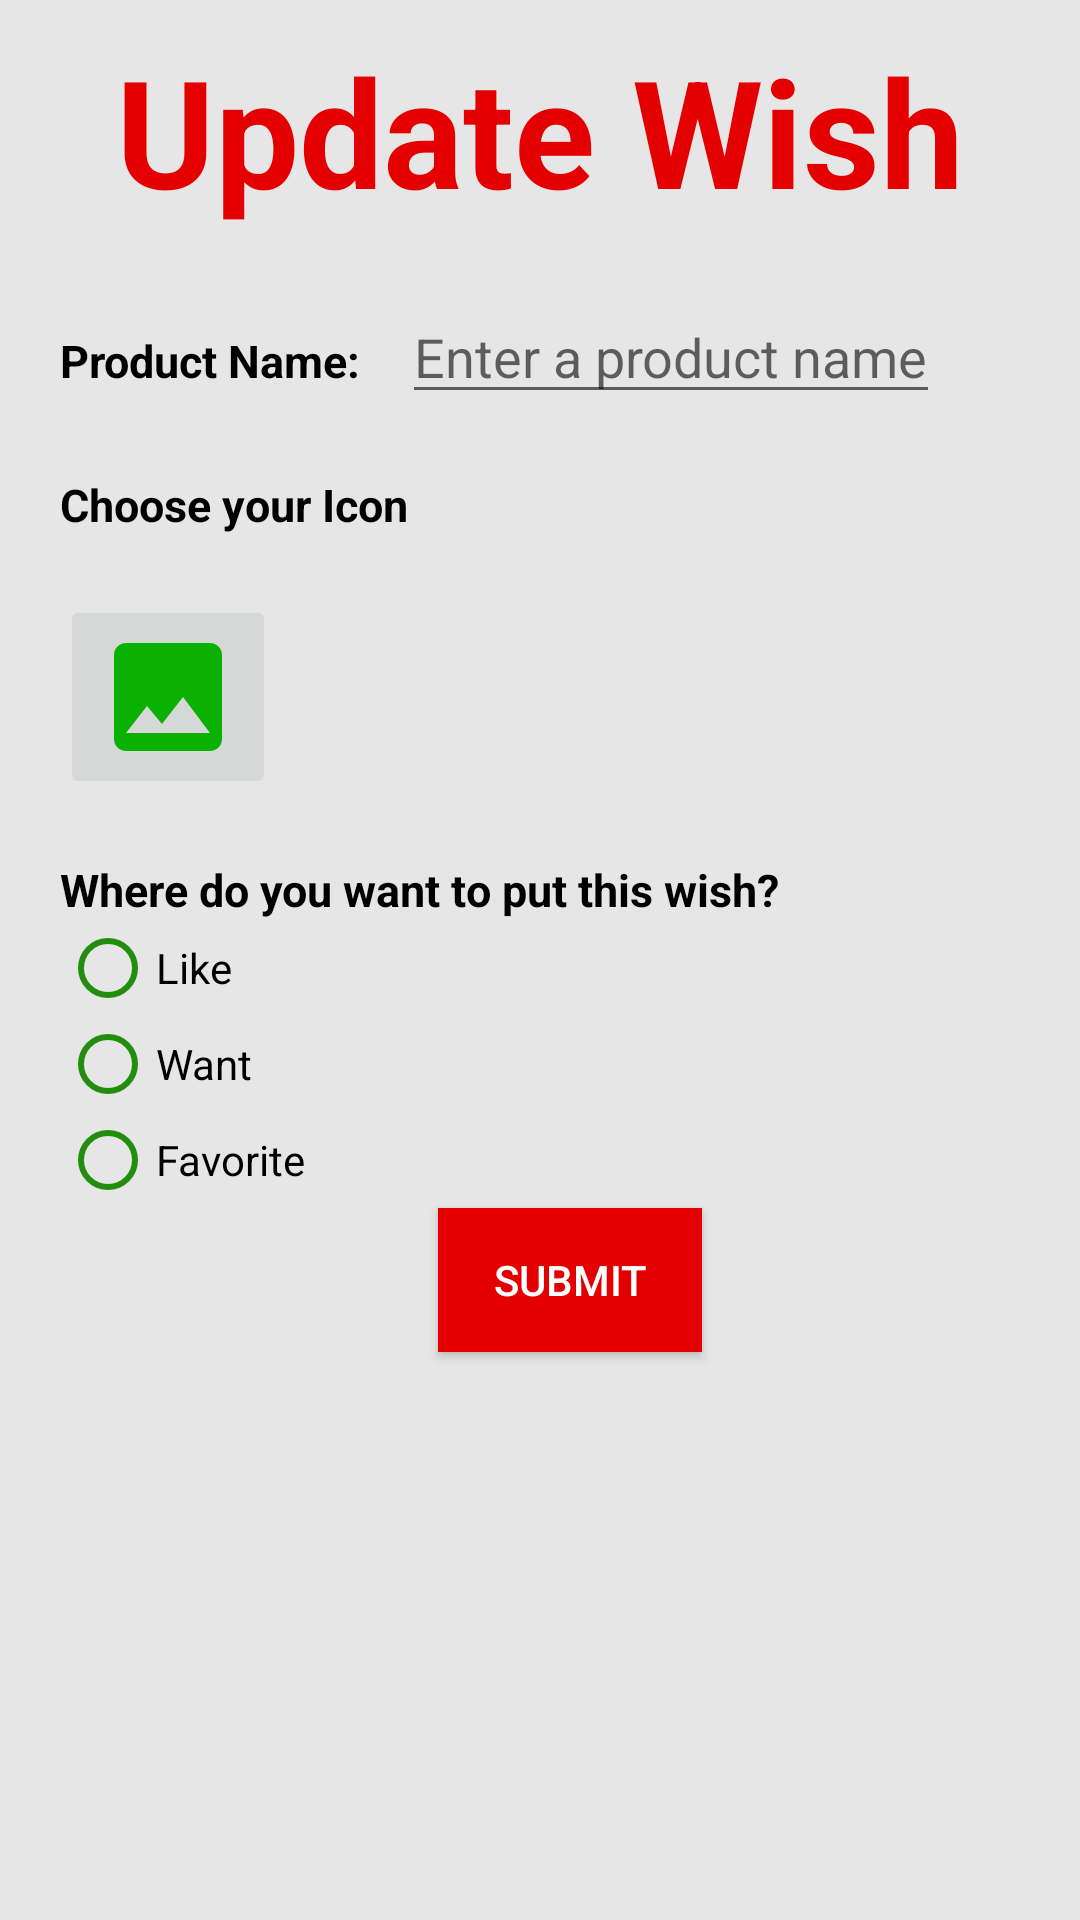

Icons on this 1080px x 1920px Android screen, each with its box as (x1, y1, x2, y2):
photo: (114, 643, 222, 751)
